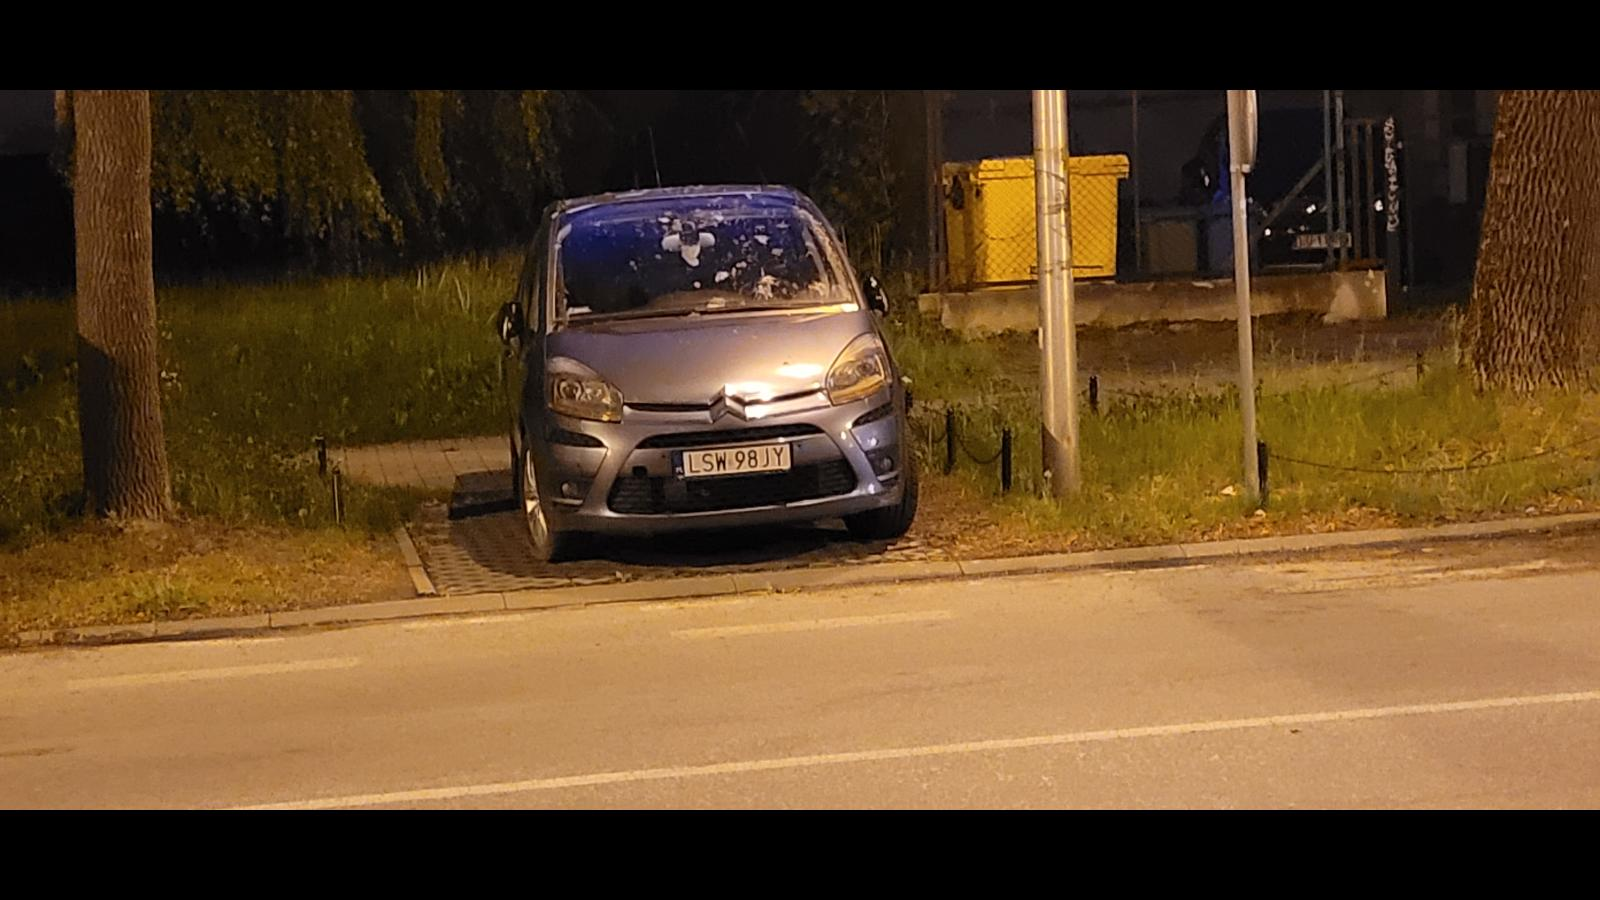plates: (672, 443, 793, 481)
